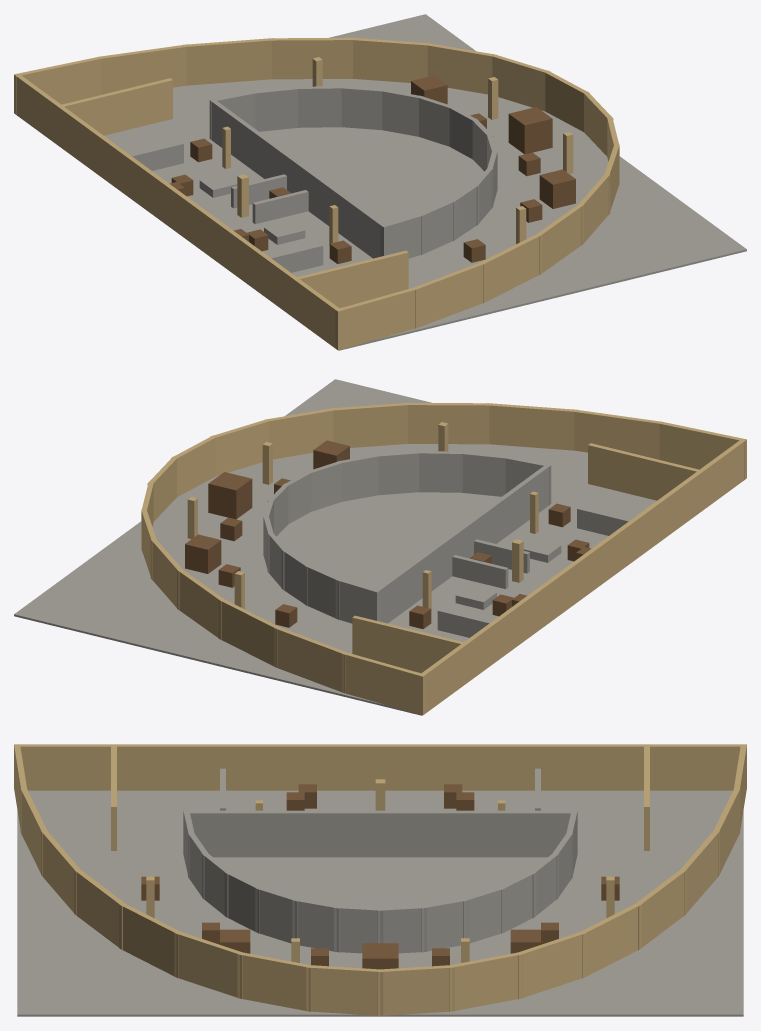
File: de_douglas.glb
The picture shows the model from 3 angles, top to bottom: view 1: azimuth 30°, elevation 25°; view 2: azimuth 150°, elevation 25°; view 3: azimuth 270°, elevation 25°; orthographic projection. The views are drawn at different scales.
Parts seen in each view (by area): view 1: de_douglas; view 2: de_douglas; view 3: de_douglas.
Boxes of the visible parts, x1,y1,x2,y2 form: de_douglas: (14, 14, 746, 350); de_douglas: (14, 379, 746, 715); de_douglas: (14, 744, 746, 1016).
Size of the model in its own units: 44.55 by 4.2 by 60.53.
